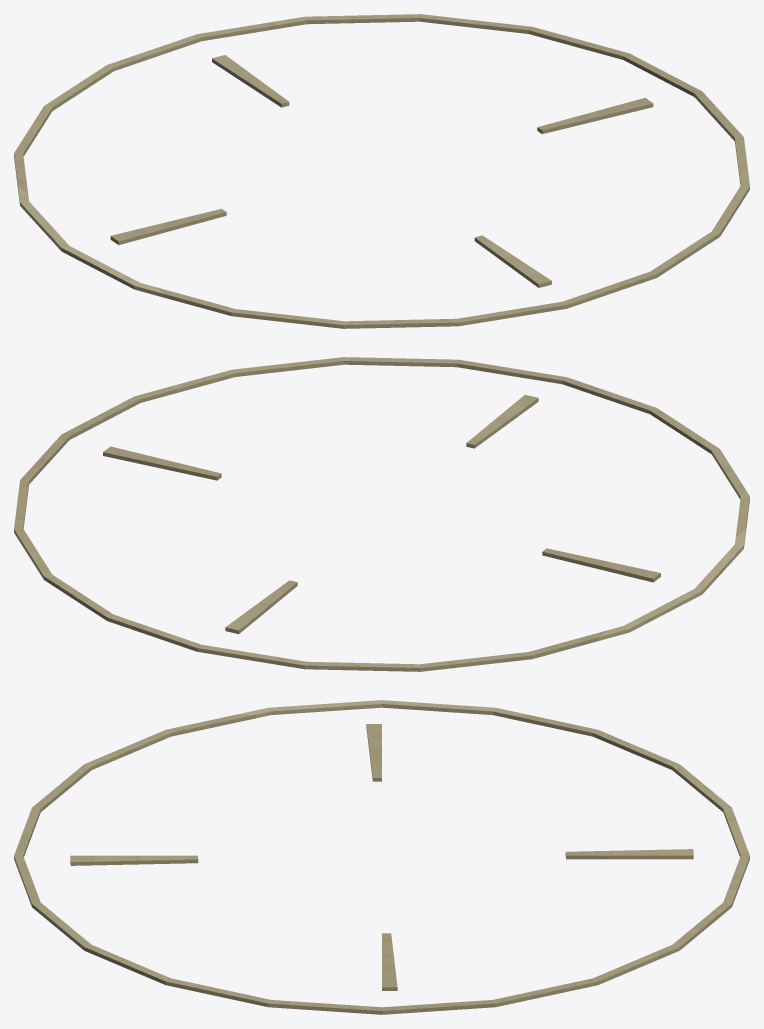
Rendered from level_castle_training_cleansing.glb.
The picture shows the model from 3 angles, top to bottom: view 1: azimuth 30°, elevation 25°; view 2: azimuth 150°, elevation 25°; view 3: azimuth 270°, elevation 25°; orthographic projection.
Parts seen in each view (by area): view 1: Training floor inlay cleansing; view 2: Training floor inlay cleansing; view 3: Training floor inlay cleansing.
Boxes of the visible parts, box(x1,y1,x2,y2) form: Training floor inlay cleansing: box(14, 14, 749, 328); Training floor inlay cleansing: box(14, 357, 749, 671); Training floor inlay cleansing: box(14, 700, 749, 1014).
Size of the model in its own units: 1.44 by 0.008 by 1.44.
1 material, 1 textured.
